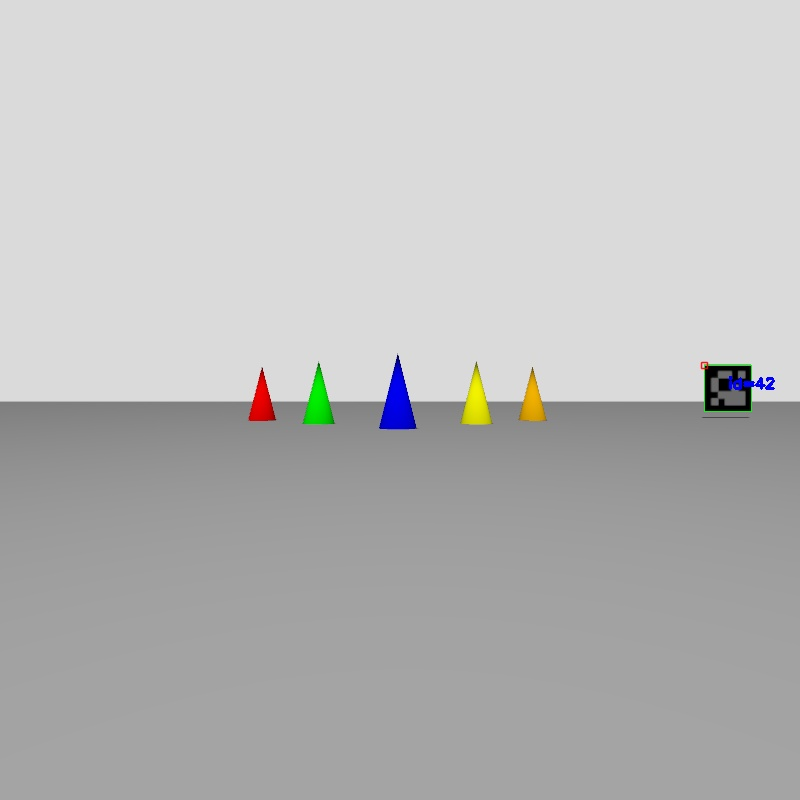Blue_cone: (380, 355, 415, 428)
Green_cone: (304, 363, 334, 424)
Orange_cone: (520, 369, 546, 420)
Red_cone: (248, 368, 275, 421)
Yellow_cone: (461, 362, 491, 423)
